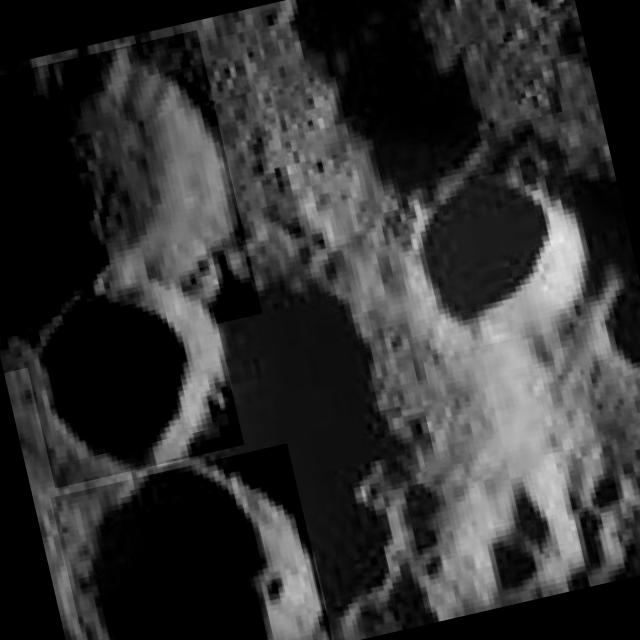crater: (0, 29, 261, 372), (50, 442, 333, 640), (13, 264, 245, 488), (402, 157, 602, 355)
